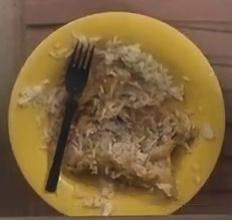chicken: (63, 137, 176, 197)
rice: (67, 38, 198, 153), (105, 166, 172, 188)
